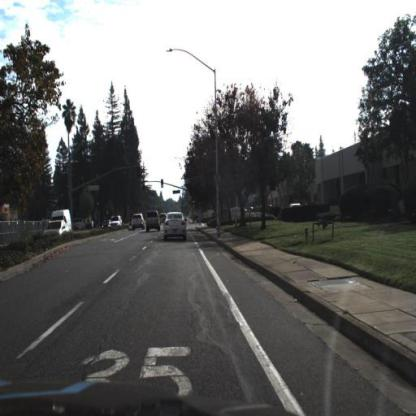car: (165, 206, 192, 241), (52, 209, 75, 235), (42, 220, 70, 241), (148, 209, 166, 236), (132, 213, 146, 231), (108, 215, 124, 227), (158, 211, 169, 224)
trafficLight-Green: (161, 178, 165, 190)
trafficLight-RedLeft: (143, 179, 148, 189), (96, 201, 100, 211)
truck: (52, 209, 75, 234)
